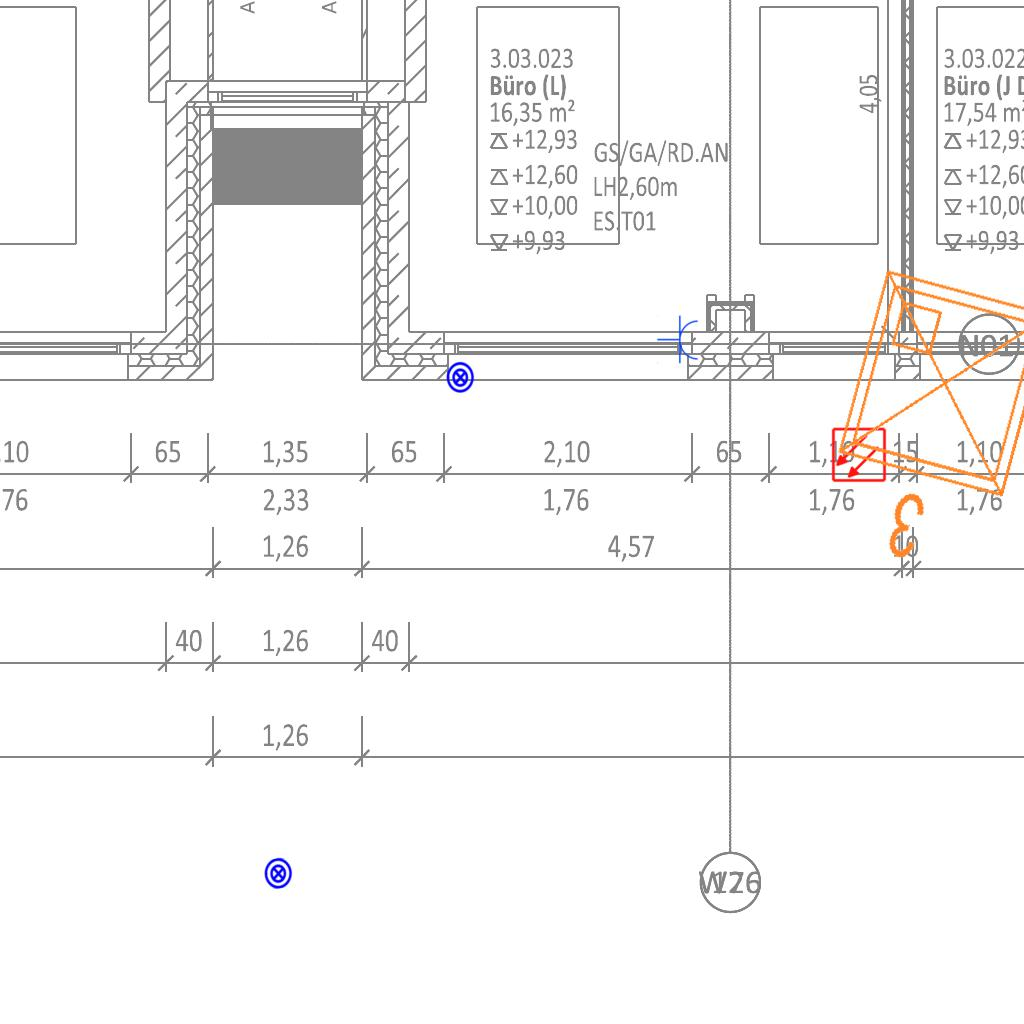Einbaudownlights_LED_Konferenzraeume: (798, 252, 1024, 596)
RMO_Rauchmelder_optischer: (831, 427, 887, 483)
Schukosteckdose_einfach: (657, 315, 700, 365)
Taster_beleuchtet: (261, 856, 296, 891), (444, 361, 477, 394)
